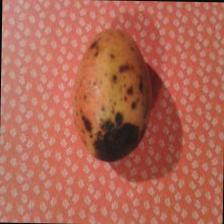Mango Overripe: (74, 24, 152, 160)
